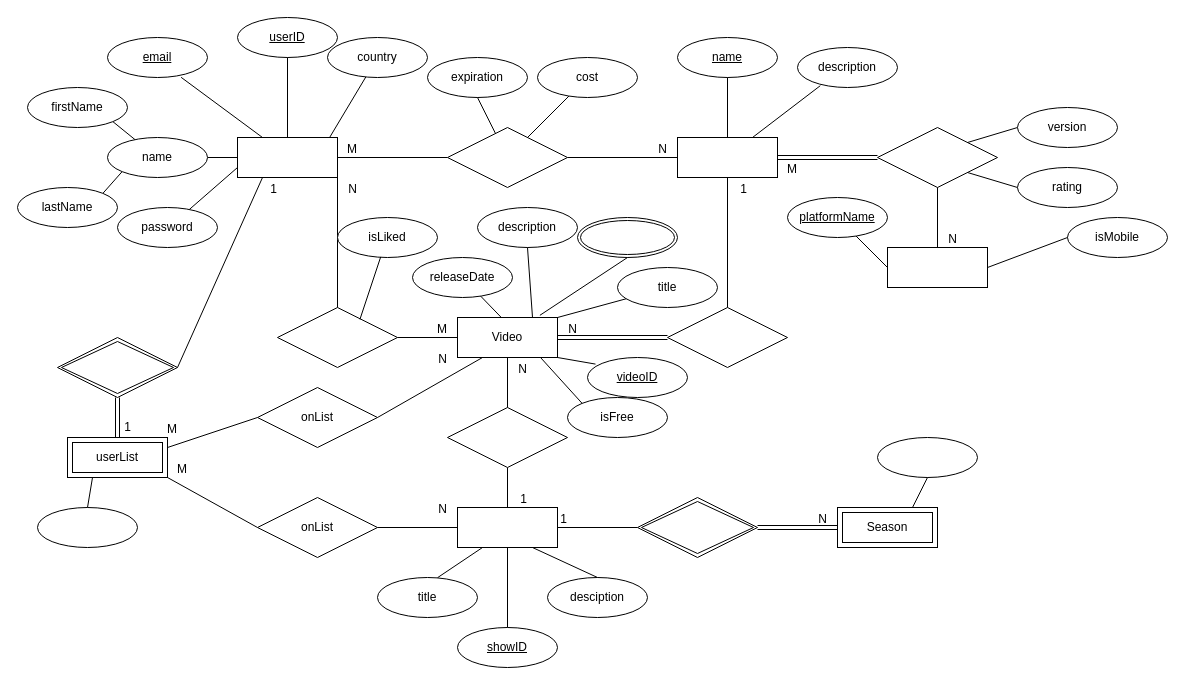
Image size: 1185x685. Some labels were removed from this diagram. Each missing label, with the box of its shape:
Apps: (676, 136, 778, 178)
ExistsOn: (876, 126, 998, 188)
HostedOn: (666, 306, 788, 368)
listID: (36, 506, 138, 548)
listOf: (56, 336, 178, 398)
onShow: (446, 406, 568, 468)
Platform: (886, 246, 988, 288)
seasonNumber: (876, 436, 978, 478)
Show: (456, 506, 558, 548)
showSeason: (636, 496, 758, 558)
subscribedTo: (446, 126, 568, 188)
tags: (576, 216, 678, 258)
User: (236, 136, 338, 178)
WatchedVideo: (276, 306, 398, 368)
